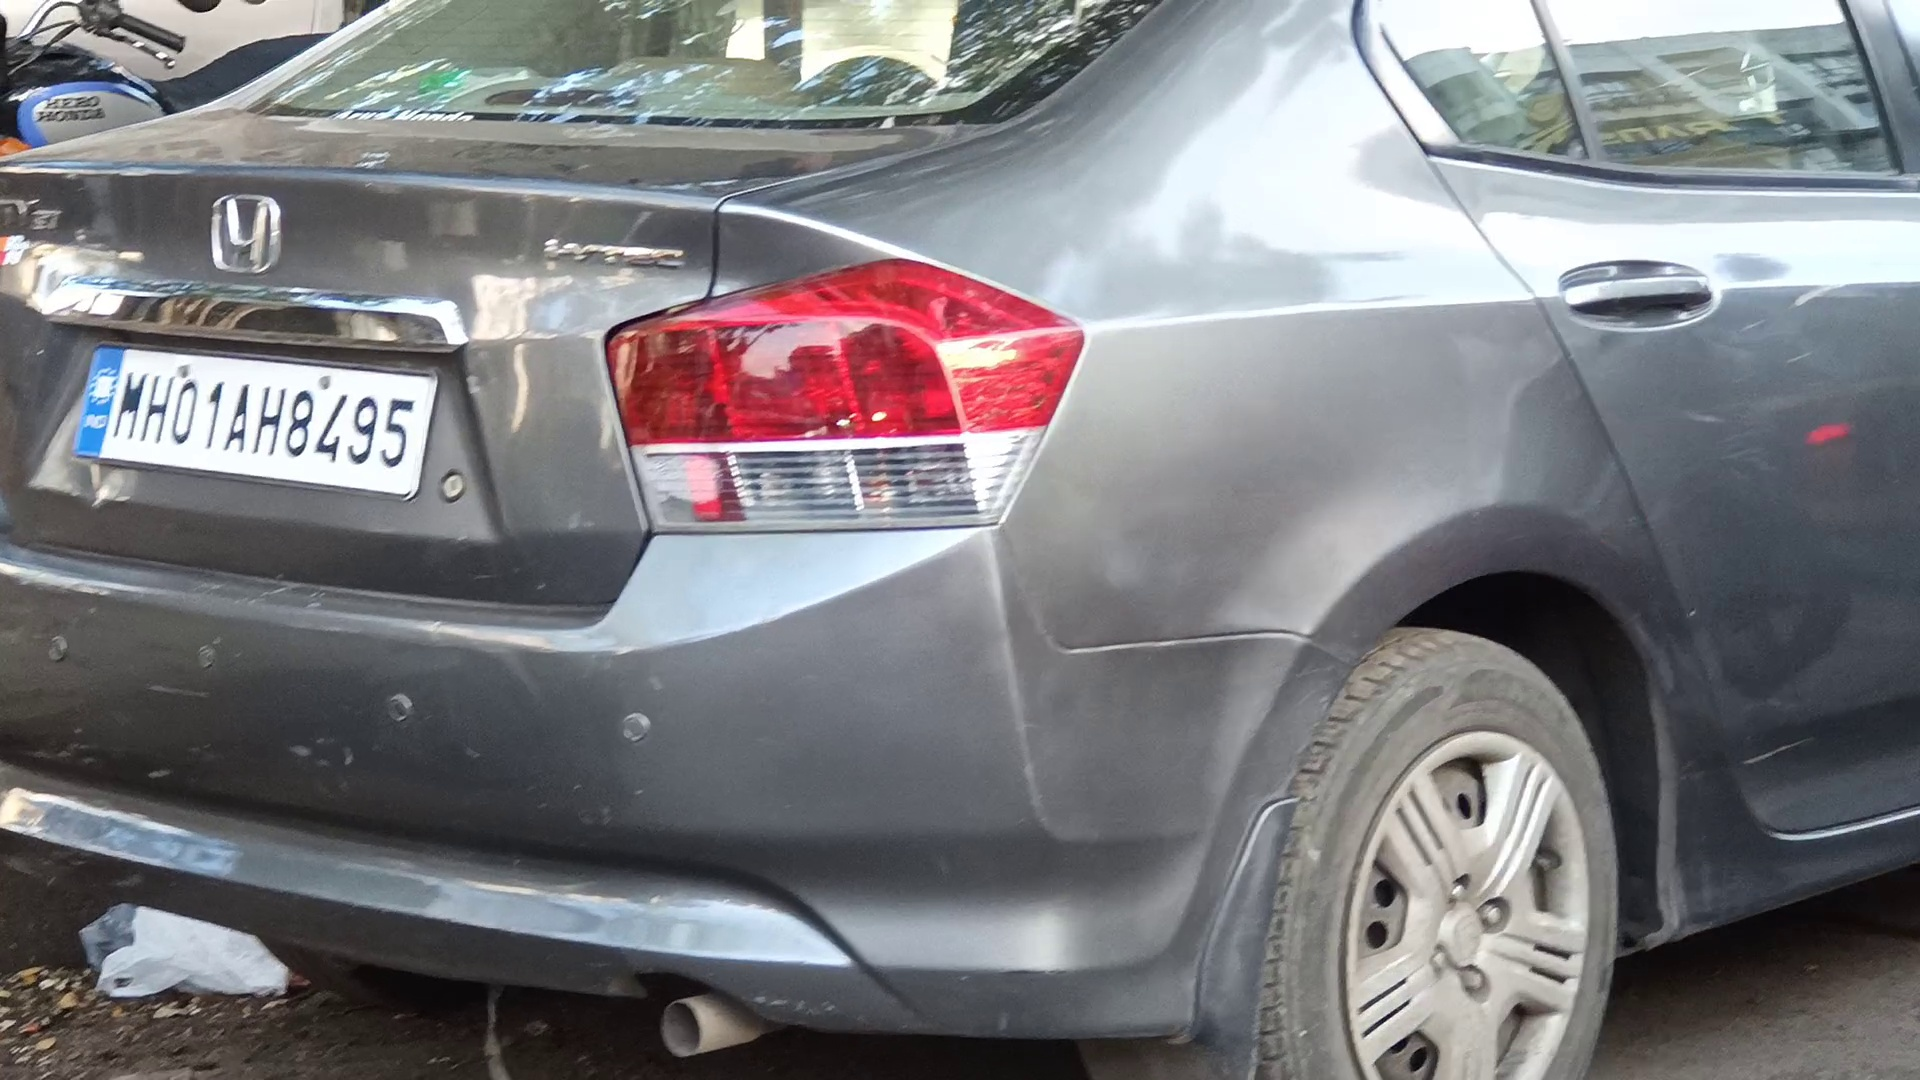MH01AH8495: (74, 345, 438, 500)
